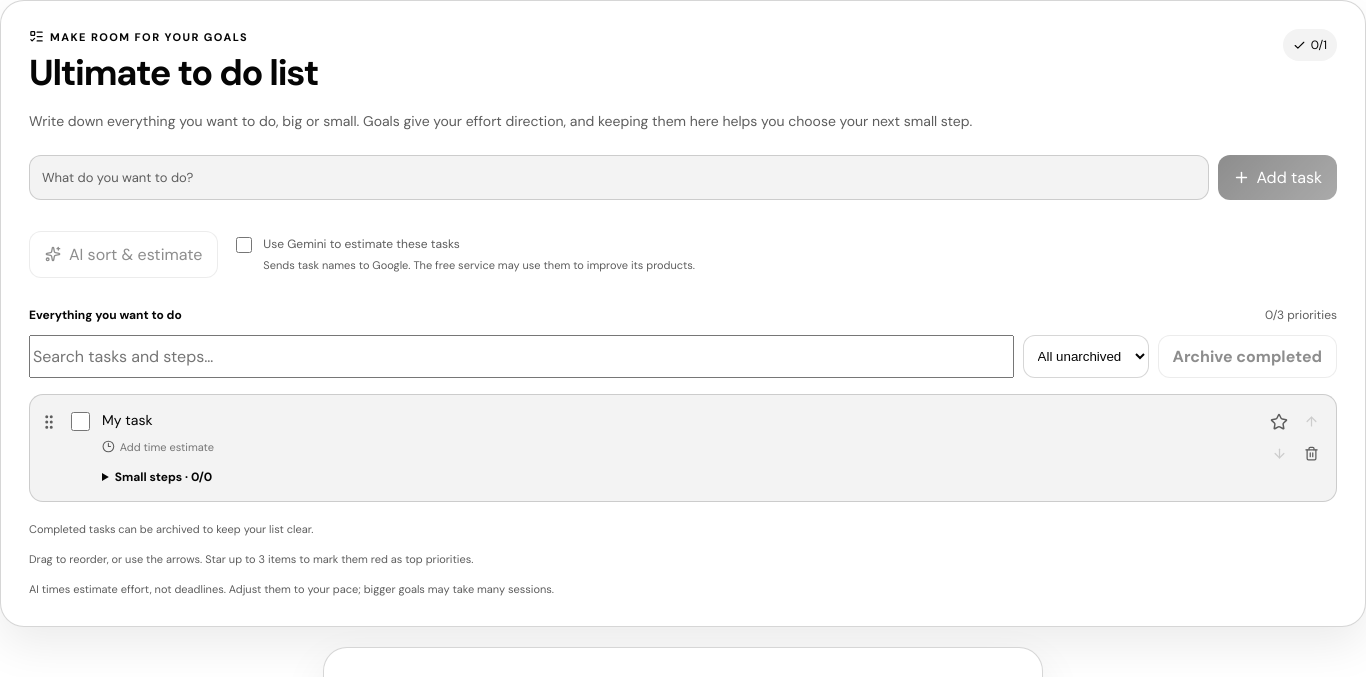
Test: leaves the list intact when AI fails
Step 1. Click the checkbox labelled "Use Gemini" → {"x": 244, "y": 245}, box [236,237,252,253]
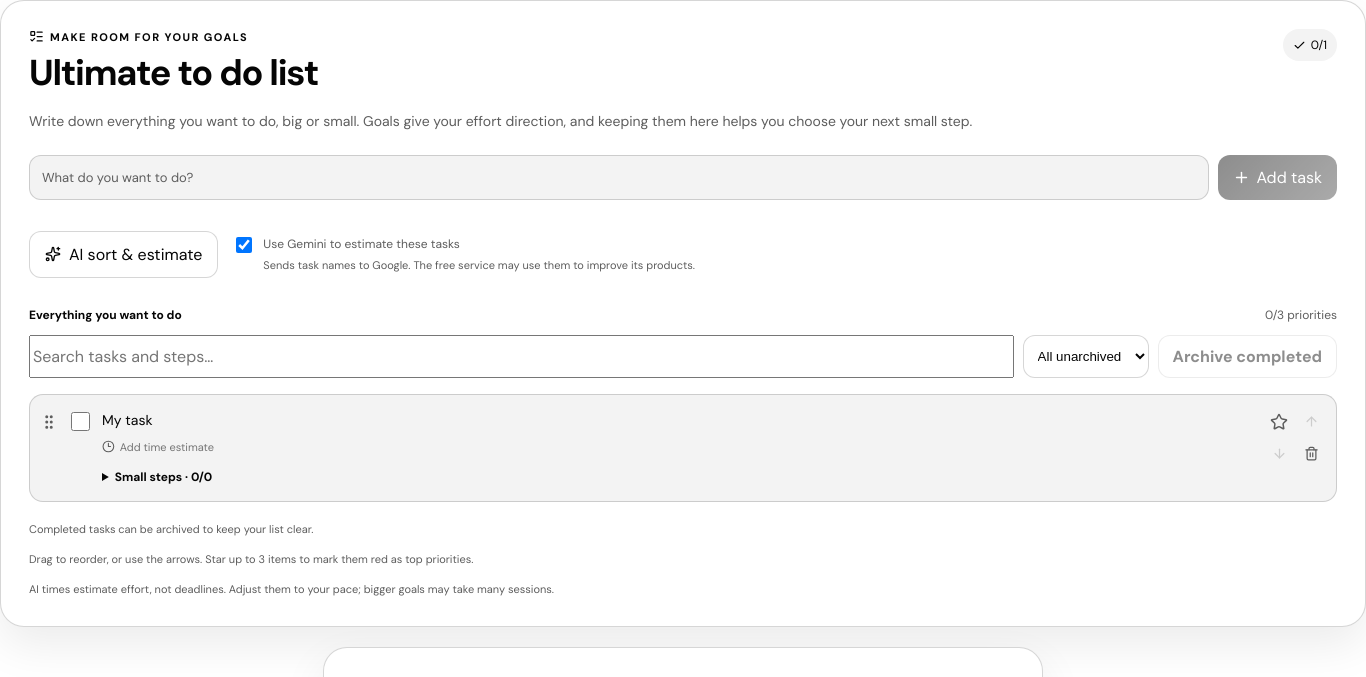
Step 2. Click the button "AI sort & estimate" → {"x": 124, "y": 254}, box [29,231,218,278]
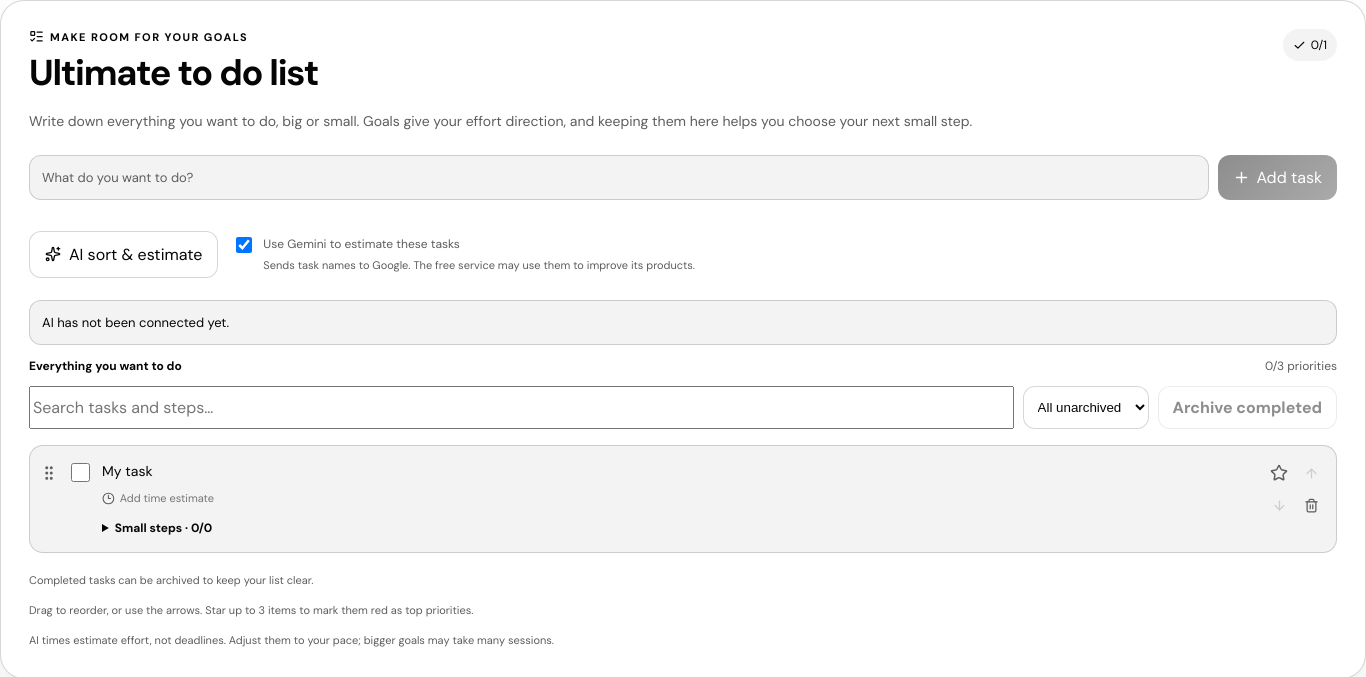
expect the field named "Time estimate for My task" is empty: met, box [120,488,1255,508]
expect the text "AI has not been connected yet." is shown: met, box [29,300,1337,345]
